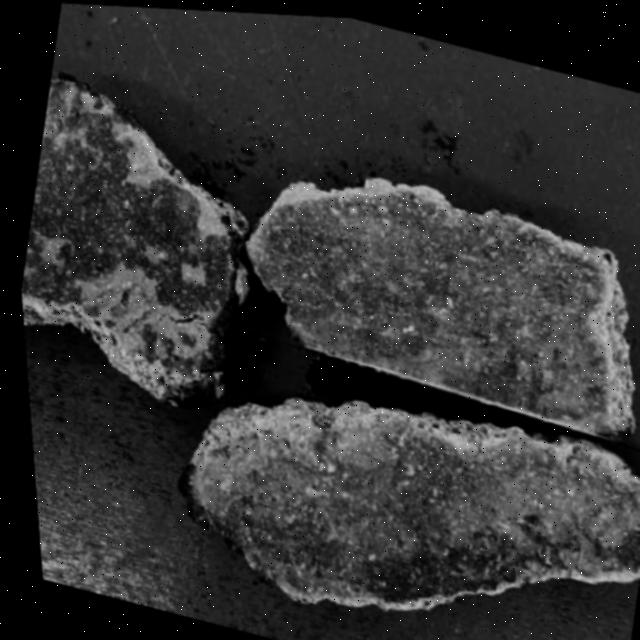Road Debris: (173, 367, 640, 640), (232, 156, 640, 424), (5, 81, 239, 374)
